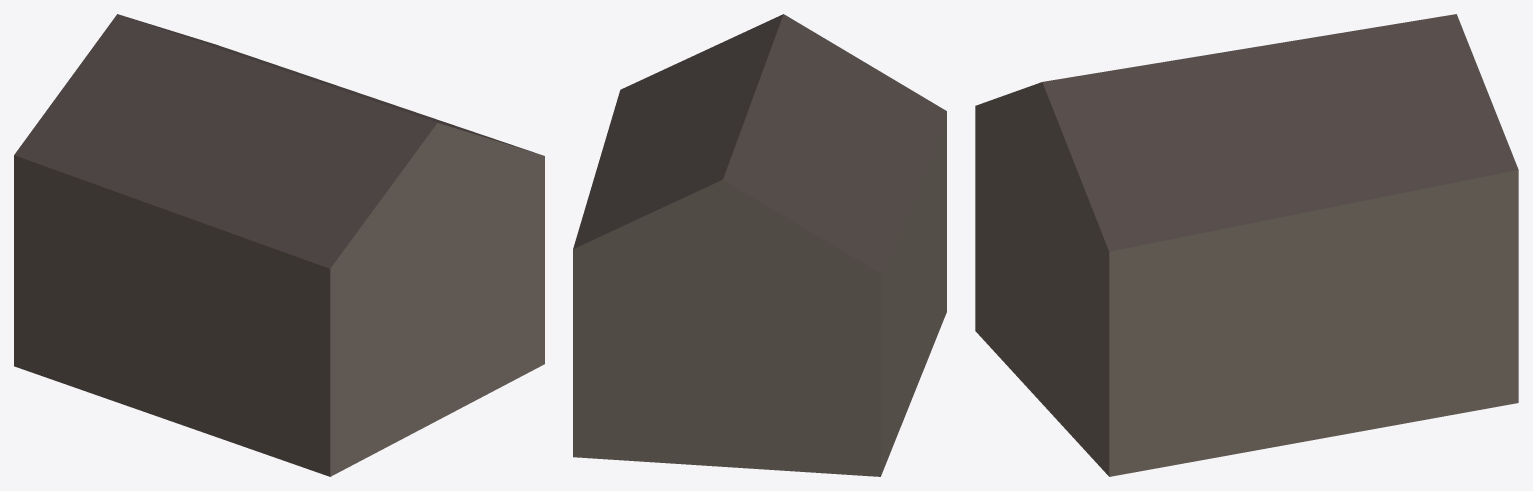
3 renders of one model, left to right at view 1: azimuth 30°, elevation 25°; view 2: azimuth 150°, elevation 25°; view 3: azimuth 270°, elevation 25°, orthographic. The views are drawn at different scales.
Visible parts, largest first — view 1: HP-w776800993; view 2: HP-w776800993; view 3: HP-w776800993.
Boxes of the visible parts, x1,y1,x2,y2 form: HP-w776800993: (14,14,544,476); HP-w776800993: (573,14,946,476); HP-w776800993: (975,14,1518,476).
Size of the model in its own units: 12.08 by 8.58 by 13.13.
